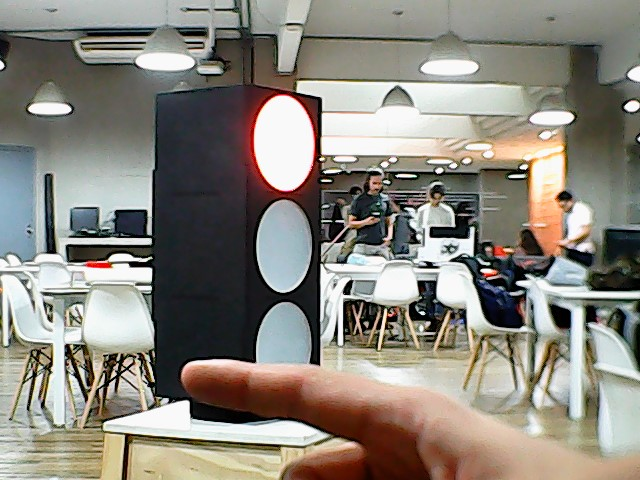vermelho: (149, 76, 326, 413)
